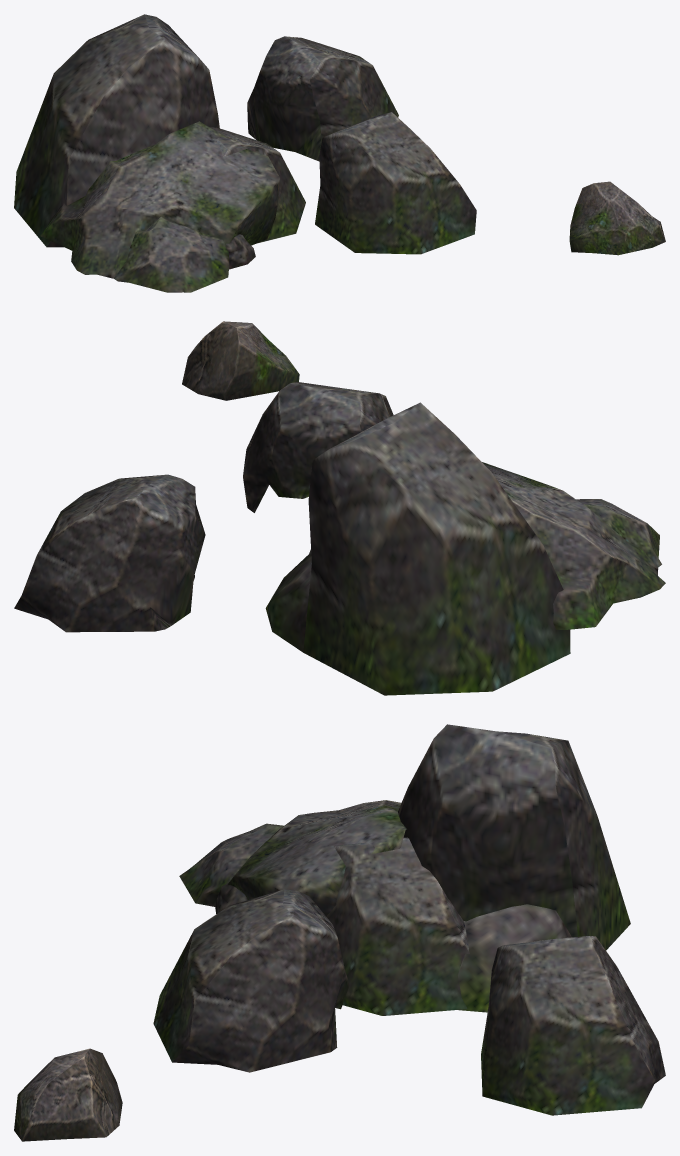
The model's file is qys_suishi.FBX.
3 renders of one model, top to bottom at view 1: azimuth 30°, elevation 25°; view 2: azimuth 150°, elevation 25°; view 3: azimuth 270°, elevation 25°, orthographic. The views are drawn at different scales.
Parts seen in each view (by area): view 1: qys_suishi; view 2: qys_suishi; view 3: qys_suishi.
Part boxes in pixels (x1,y1,x2,y2): qys_suishi: (14,14,665,292); qys_suishi: (14,321,665,695); qys_suishi: (14,724,665,1141).
Size of the model in its own units: 2902 by 1026 by 2671.
